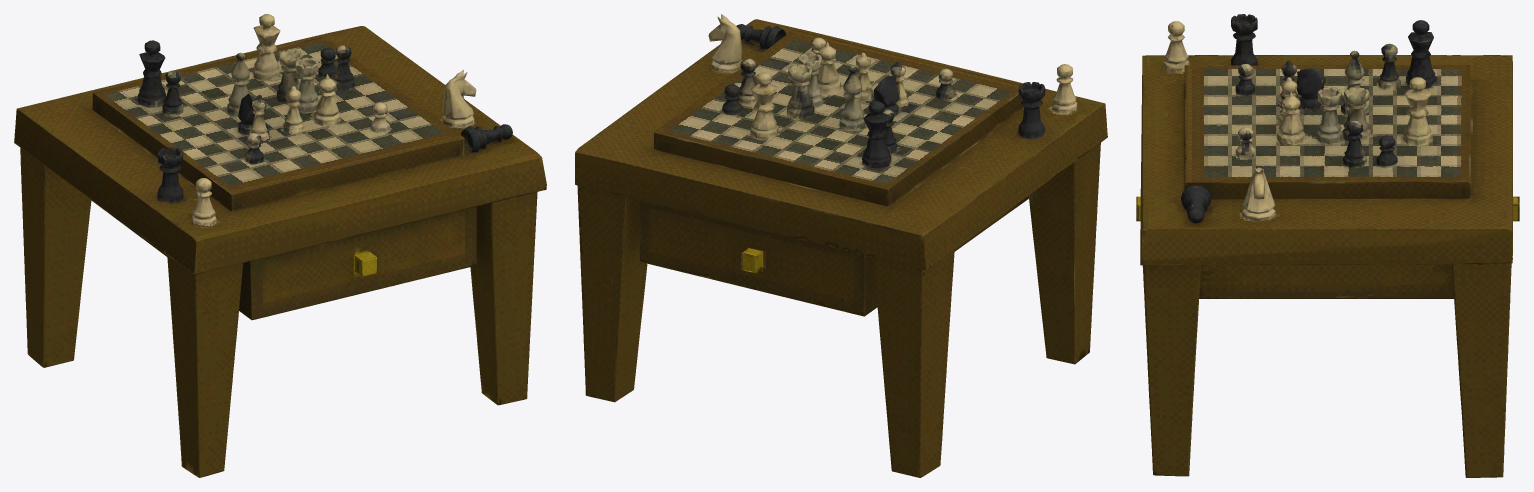
Rendered from chess_table_psx.glb.
3 renders of one model, left to right at view 1: azimuth 30°, elevation 25°; view 2: azimuth 150°, elevation 25°; view 3: azimuth 270°, elevation 25°, orthographic. The views are drawn at different scales.
Parts seen in each view (by area): view 1: ChessTable; view 2: ChessTable; view 3: ChessTable.
Boxes of the visible parts, x1,y1,x2,y2 form: ChessTable: (14,14,546,477); ChessTable: (575,14,1107,477); ChessTable: (1136,14,1519,477).
Bounding box in the file's own units: 0.7791 × 0.6815 × 0.714.
1 material, 1 textured.
